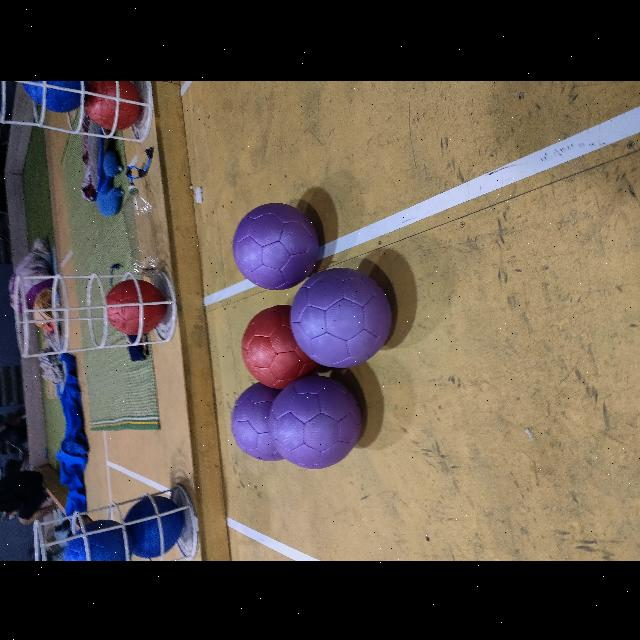B: (124, 495, 182, 557), (62, 518, 128, 560), (22, 80, 88, 112)
P: (289, 268, 391, 366), (268, 374, 360, 468), (233, 203, 319, 289), (226, 378, 308, 464), (105, 278, 165, 334), (84, 80, 140, 130)
R: (242, 304, 318, 388)
S: (19, 261, 184, 361), (32, 476, 202, 560), (0, 80, 160, 142)
